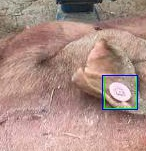text: (104, 75, 136, 108)
